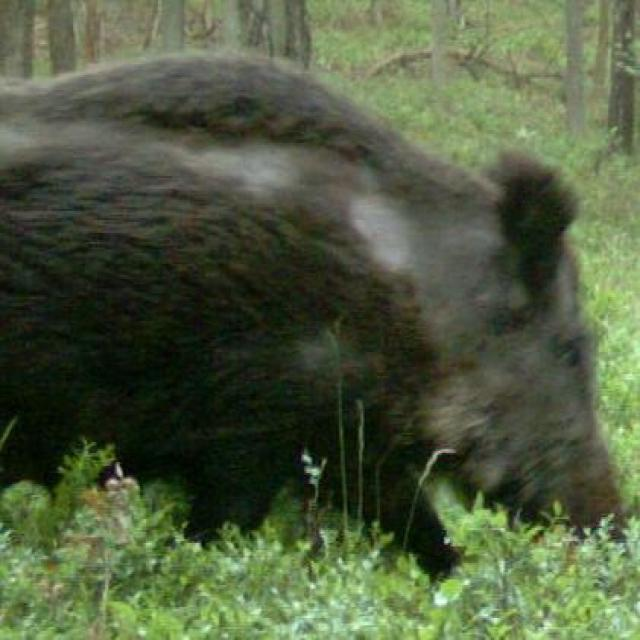pig: (0, 51, 621, 586)
